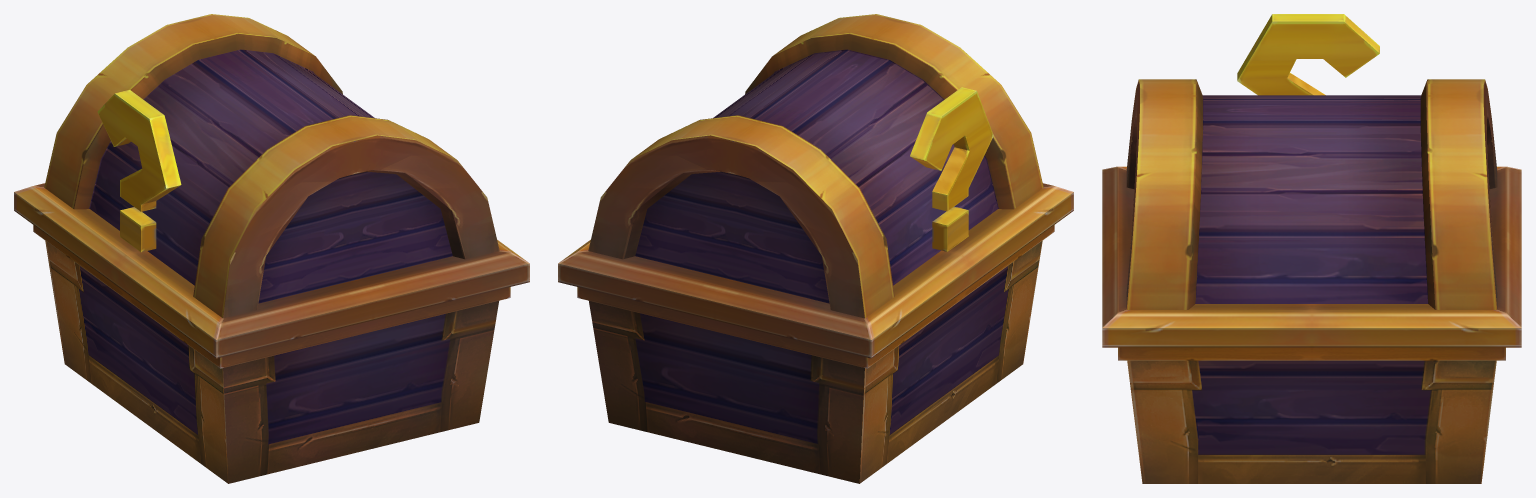
Rendered from scenes_common_chest01.FBX.
3 views of the same model, side by side, from view 1: azimuth 30°, elevation 25°; view 2: azimuth 150°, elevation 25°; view 3: azimuth 270°, elevation 25° (orthographic). The views are drawn at different scales.
Parts seen in each view (by area): view 1: scenes_common_chest01; view 2: scenes_common_chest01; view 3: scenes_common_chest01.
Part boxes in pixels (bbox=[...]): scenes_common_chest01: bbox=[14, 14, 529, 483]; scenes_common_chest01: bbox=[558, 14, 1073, 483]; scenes_common_chest01: bbox=[1102, 14, 1521, 483].
Bounding box in the file's own units: 35.64 × 35.1 × 39.81.
